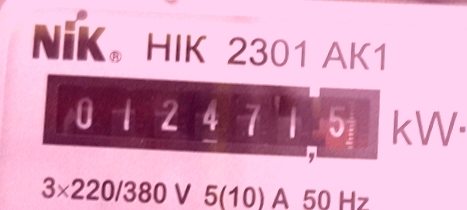0: (70, 93, 95, 130)
1: (119, 95, 133, 132), (284, 102, 297, 139)
2: (157, 95, 180, 133)
4: (199, 95, 220, 132)
5: (324, 100, 348, 139)
7: (238, 99, 261, 139)
screen: (30, 55, 393, 177)
